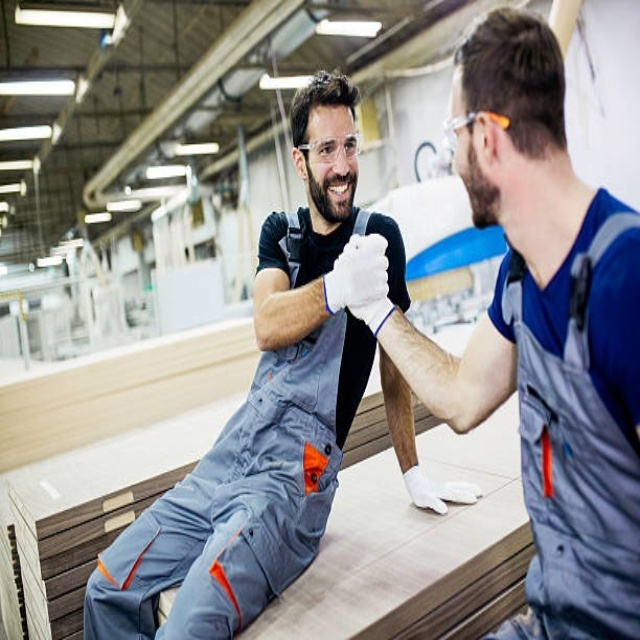Gafas: (443, 110, 513, 156), (300, 133, 363, 164)
Guantes: (322, 231, 395, 333), (400, 460, 481, 514)
Sin_mascara: (322, 169, 352, 204)
